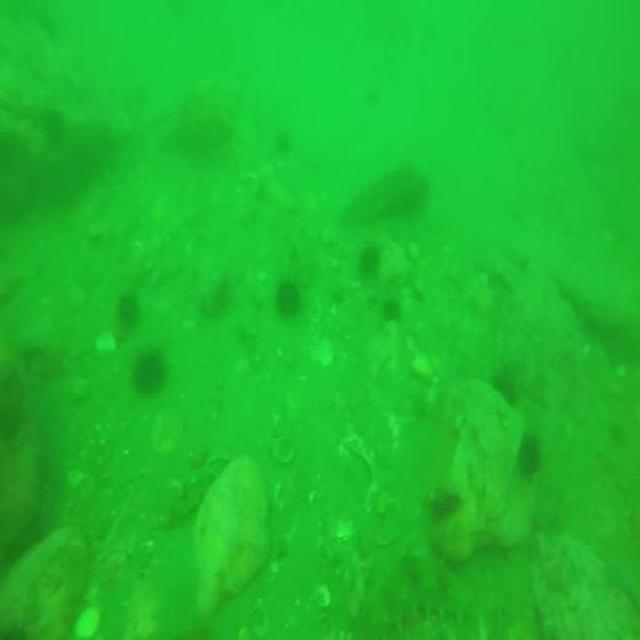echinus: (133, 348, 168, 397), (276, 276, 302, 318), (518, 434, 540, 480), (359, 245, 385, 275), (499, 370, 519, 406), (379, 297, 401, 324), (118, 296, 139, 322)
holothurian: (336, 545, 471, 640)
scallop: (414, 346, 436, 381), (274, 436, 296, 466), (308, 303, 322, 329)
